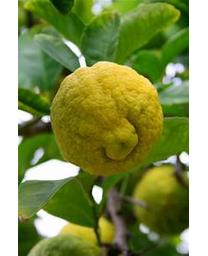lemon: (50, 63, 163, 176), (137, 165, 188, 236)
